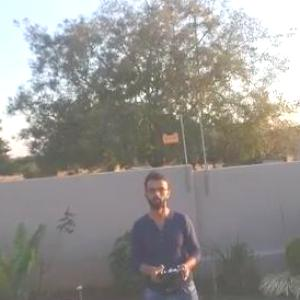follow: (123, 169, 208, 299)
